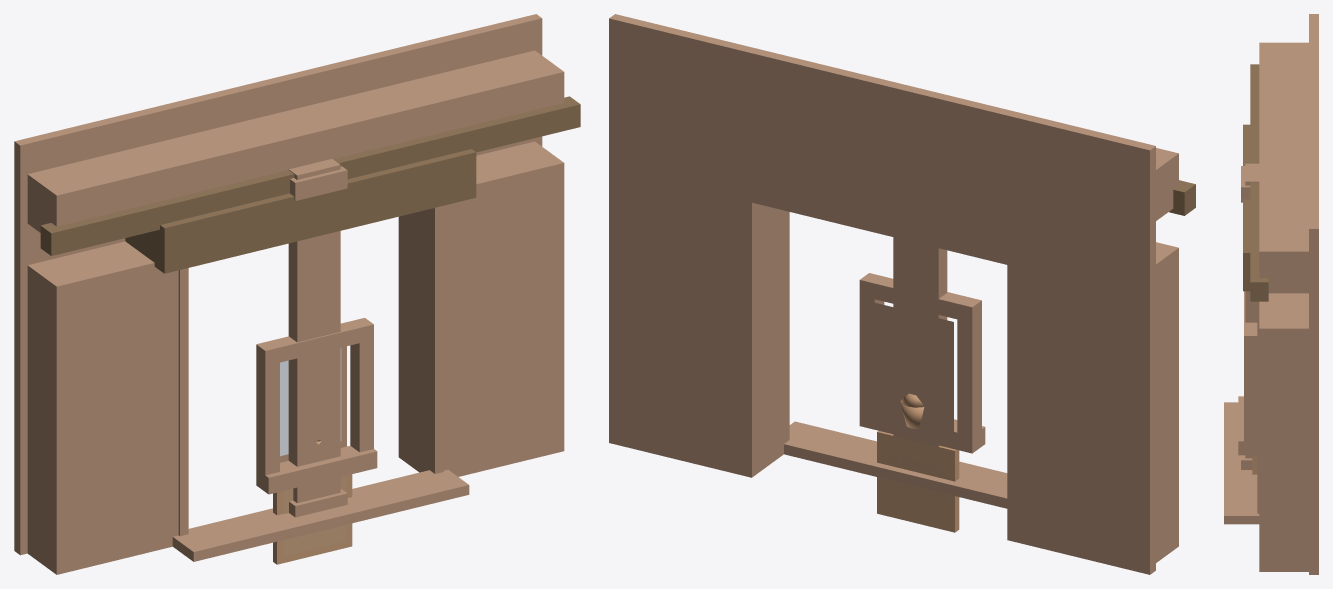
File: indus.glb
The picture shows the model from 3 angles, left to right: view 1: azimuth 30°, elevation 25°; view 2: azimuth 150°, elevation 25°; view 3: azimuth 270°, elevation 25°; orthographic projection. The views are drawn at different scales.
Parts seen in each view (by area): view 1: Brick_pierL, Brick_pierR, Brick_parapet, Wood_lintel, Wood_beam, Brick_piershaft, Brick_backL, Brick_backHdr, Brick_threshold, Brick_backR, Brick_revealL, Brick_revealR (+9 smaller); view 2: Brick_backL, Brick_backR, Brick_backHdr, Brick_nicheback, Brick_pierR, Brick_pierL, Brick_threshold, Terra_plaqueframe, Brick_piershaft, Brick_nicheL, Brick_nicheTop, Brick_nicheR (+2 smaller); view 3: Brick_pierR, Brick_parapet, Brick_backR, Brick_threshold, Wood_beam, Brick_nicheR, Wood_lintel, Brick_backHdr, Brick_piershaft, Brick_revealR, Brick_backL, Brick_nicheSill (+3 smaller).
Part boxes in pixels (x1,y1,x2,y2): Brick_pierL: (27, 241, 178, 574); Brick_pierR: (404, 141, 564, 476); Brick_parapet: (27, 50, 564, 232); Wood_lintel: (125, 149, 476, 273); Wood_beam: (40, 96, 580, 255); Brick_piershaft: (288, 159, 340, 503); Brick_backL: (14, 108, 157, 555); Brick_backHdr: (152, 47, 404, 142); Brick_threshold: (172, 469, 469, 561); Brick_backR: (398, 14, 542, 460); Brick_revealL: (178, 268, 188, 536); Brick_revealR: (433, 205, 443, 473); Brick_backL: (1007, 111, 1155, 574); Brick_backR: (609, 14, 757, 477); Brick_backHdr: (752, 49, 1012, 264); Brick_nicheback: (871, 302, 953, 439); Brick_pierR: (758, 204, 788, 472); Brick_pierL: (1156, 242, 1178, 562); Brick_threshold: (784, 421, 1007, 508); Terra_plaqueframe: (877, 430, 959, 532); Brick_piershaft: (893, 237, 947, 470); Brick_nicheL: (957, 316, 981, 440); Brick_nicheTop: (859, 273, 981, 322); Brick_nicheR: (859, 295, 884, 416); Brick_pierR: (1259, 293, 1308, 571); Brick_parapet: (1259, 42, 1308, 293); Brick_backR: (1309, 172, 1318, 574); Brick_threshold: (1224, 402, 1259, 524); Wood_beam: (1250, 64, 1268, 301); Brick_nicheR: (1244, 349, 1257, 444); Wood_lintel: (1243, 124, 1250, 291); Brick_backHdr: (1309, 70, 1318, 172); Brick_piershaft: (1245, 163, 1259, 458); Brick_revealR: (1257, 301, 1259, 513); Brick_backL: (1309, 14, 1318, 70); Brick_nicheSill: (1238, 396, 1257, 455).
Bounding box in the file's own units: 7.3 × 5.92 × 1.34.
